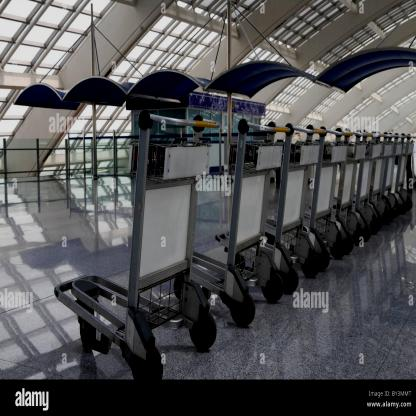airport-trolley: (59, 107, 221, 380), (174, 117, 290, 327), (281, 121, 326, 296), (318, 127, 353, 258), (343, 130, 373, 246), (366, 130, 386, 235), (379, 132, 396, 225), (390, 133, 408, 216), (401, 132, 416, 212)
